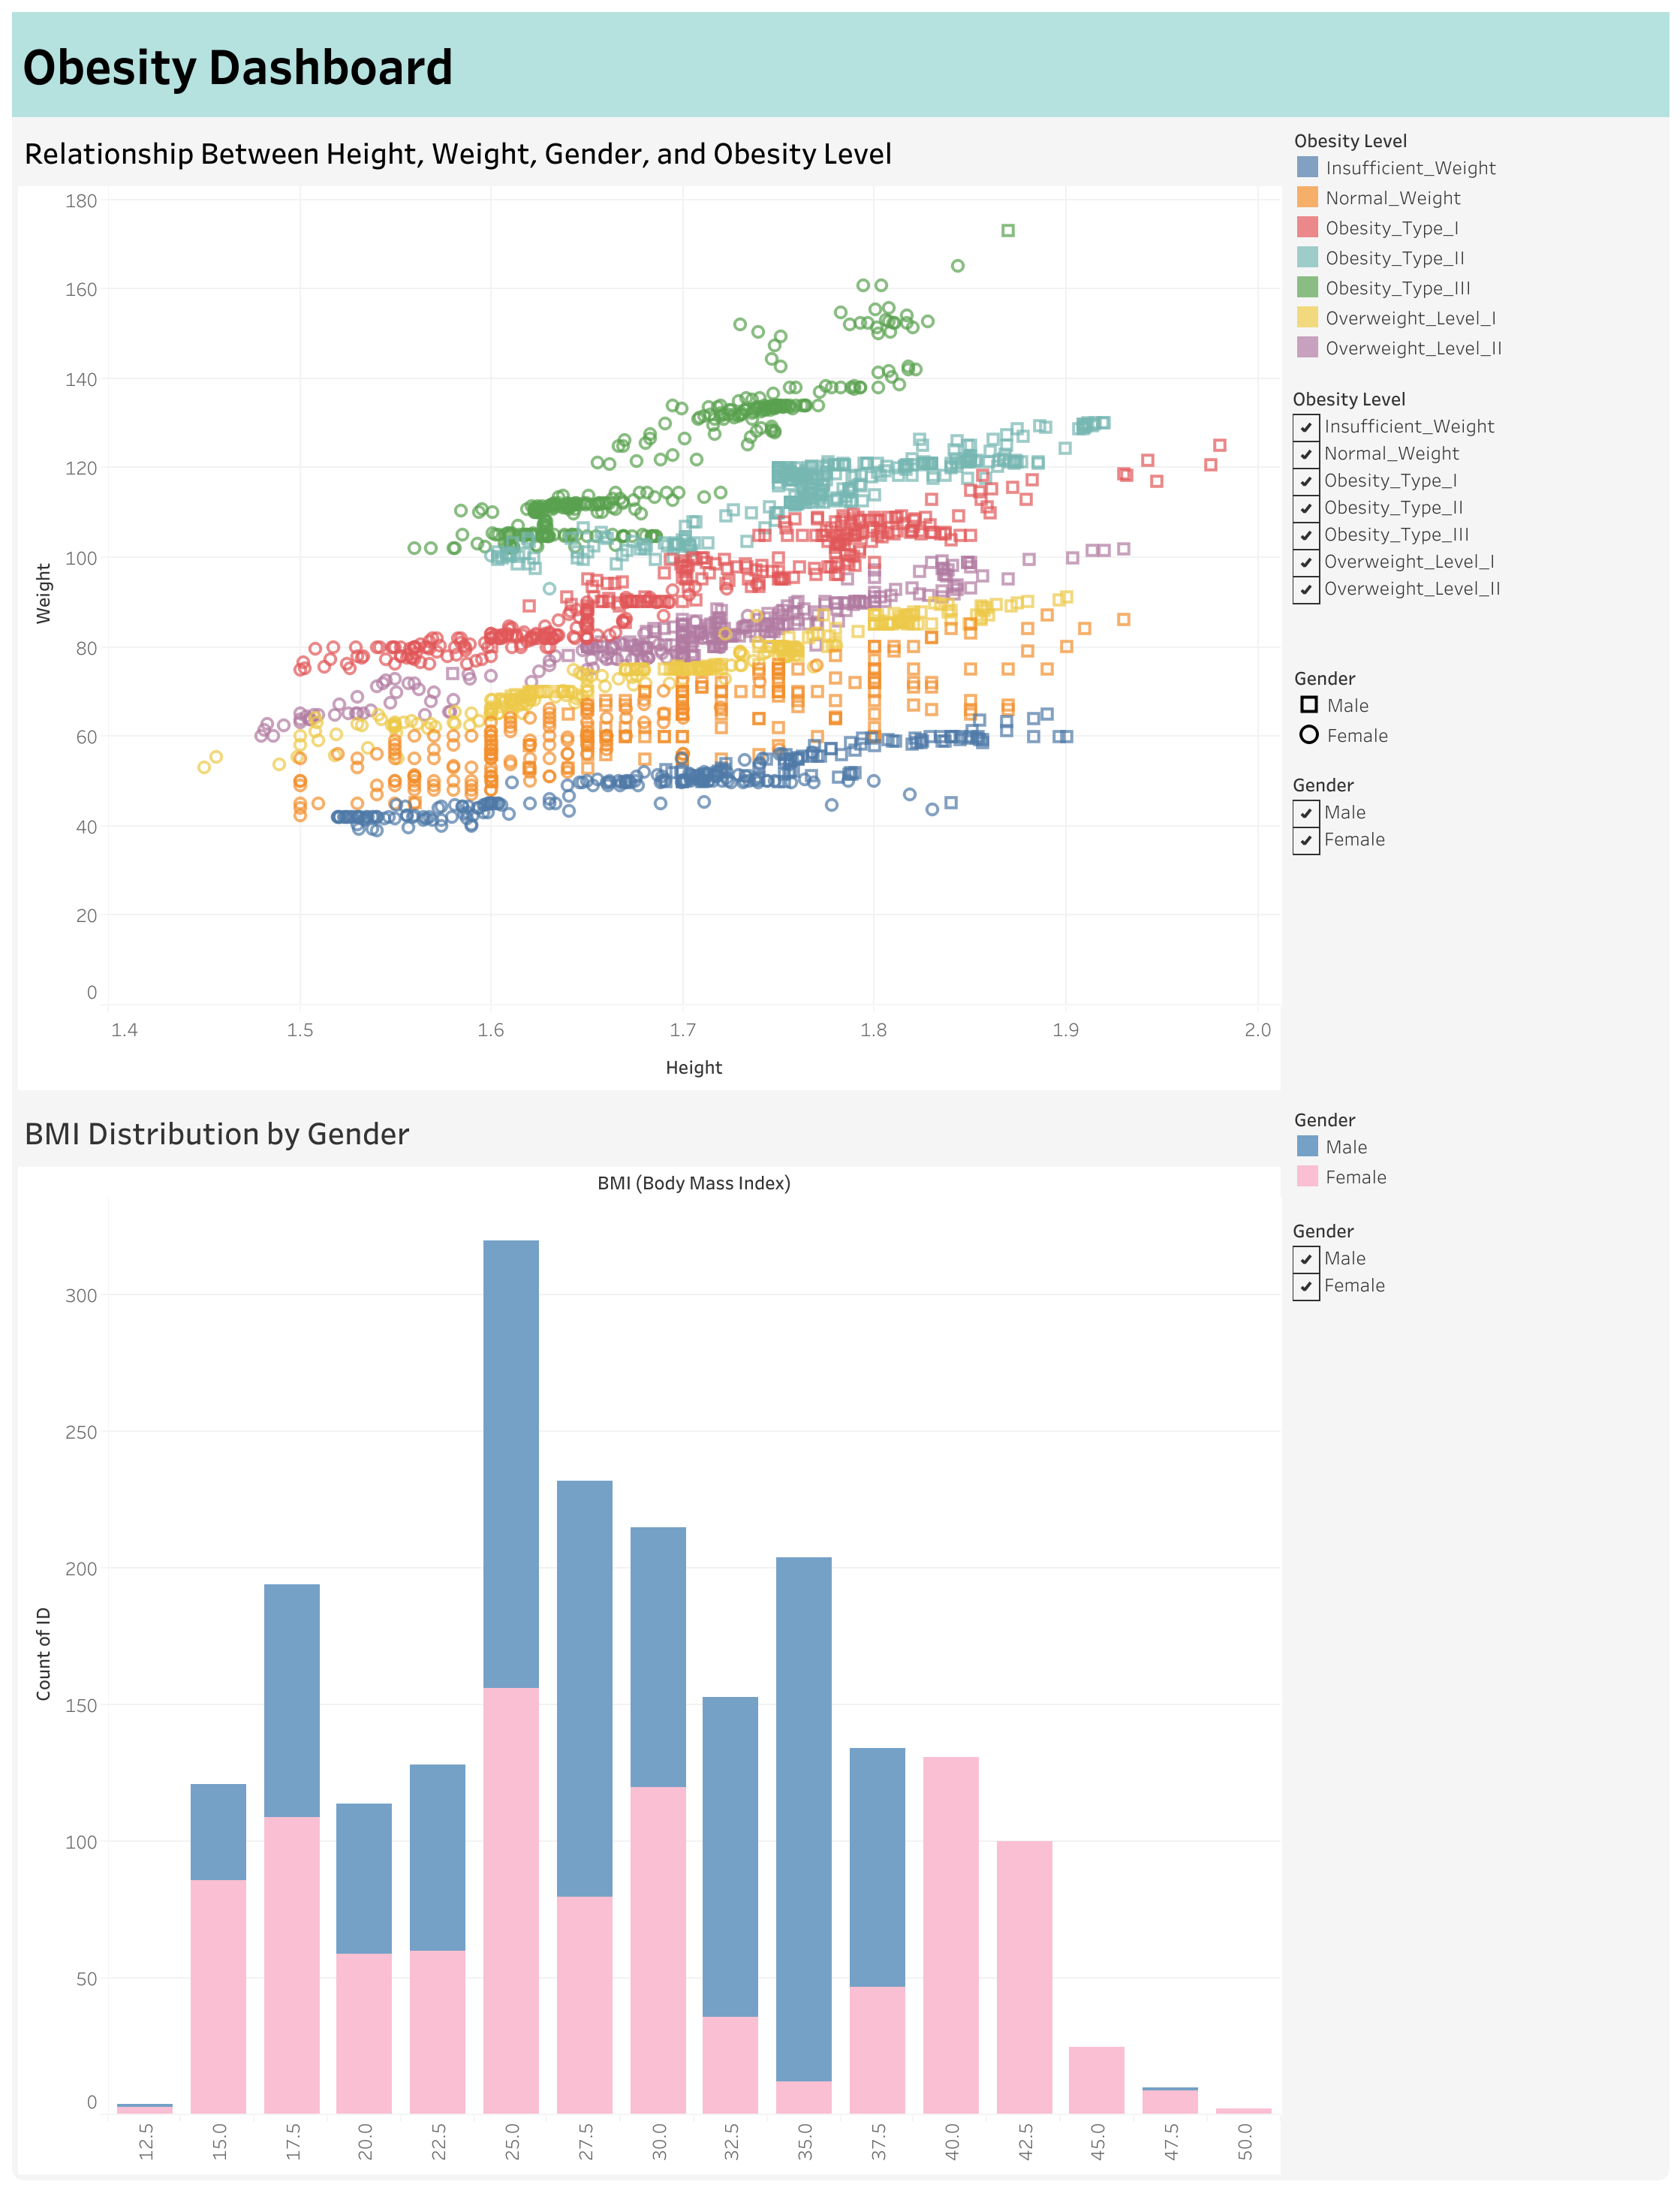

This screenshot's page, from the dashboard's own definition file:
{"tool":"tableau","page":{"name":"Dashboard 1","canvas":[1120,1460],"ordinal":0},"visuals":[{"type":"text","box":[8,8,1104,70]},{"type":"worksheet","title":"Sheet 3","mark":"Automatic","rows":["Weight"],"cols":["Height"],"box":[8,78,849,652]},{"type":"legend","title":"Sheet 3","param":"[federated.0olsia800icl1g19oqoiv1qpngh8].[none:obesity_level:nk]","box":[857,78,255,173]},{"type":"filter","title":"Sheet 3","param":"[federated.0olsia800icl1g19oqoiv1qpngh8].[none:obesity_level:nk]","box":[857,251,255,185]},{"type":"legend","title":"Sheet 3","param":"[federated.0olsia800icl1g19oqoiv1qpngh8].[none:Gender:nk]","box":[857,436,255,72]},{"type":"filter","title":"Sheet 3","param":"[federated.0olsia800icl1g19oqoiv1qpngh8].[none:Gender:nk]","box":[857,508,255,222]},{"type":"worksheet","title":"Sheet 4","mark":"Bar","rows":["ID"],"cols":["BMICALC (bin)"],"box":[8,730,849,722]},{"type":"legend","title":"Sheet 4","param":"[federated.0olsia800icl1g19oqoiv1qpngh8].[none:Gender:nk]","box":[857,730,255,75]},{"type":"filter","title":"Sheet 4","param":"[federated.0olsia800icl1g19oqoiv1qpngh8].[none:Gender:nk]","box":[857,805,255,647]}]}

Visuals, with their boxes in screenshot pixels (x1, y1, x2, y2), scaled from the page's 1120x1460 canvas onto the 1680x2191 screenshot:
text: {"x1": 12, "y1": 12, "x2": 1668, "y2": 117}
"Sheet 3" worksheet: {"x1": 12, "y1": 117, "x2": 1285, "y2": 1095}
"Sheet 3" legend: {"x1": 1285, "y1": 117, "x2": 1668, "y2": 377}
"Sheet 3" filter: {"x1": 1285, "y1": 377, "x2": 1668, "y2": 654}
"Sheet 3" legend: {"x1": 1285, "y1": 654, "x2": 1668, "y2": 762}
"Sheet 3" filter: {"x1": 1285, "y1": 762, "x2": 1668, "y2": 1095}
"Sheet 4" worksheet (Bar marks): {"x1": 12, "y1": 1095, "x2": 1285, "y2": 2179}
"Sheet 4" legend: {"x1": 1285, "y1": 1095, "x2": 1668, "y2": 1208}
"Sheet 4" filter: {"x1": 1285, "y1": 1208, "x2": 1668, "y2": 2179}
